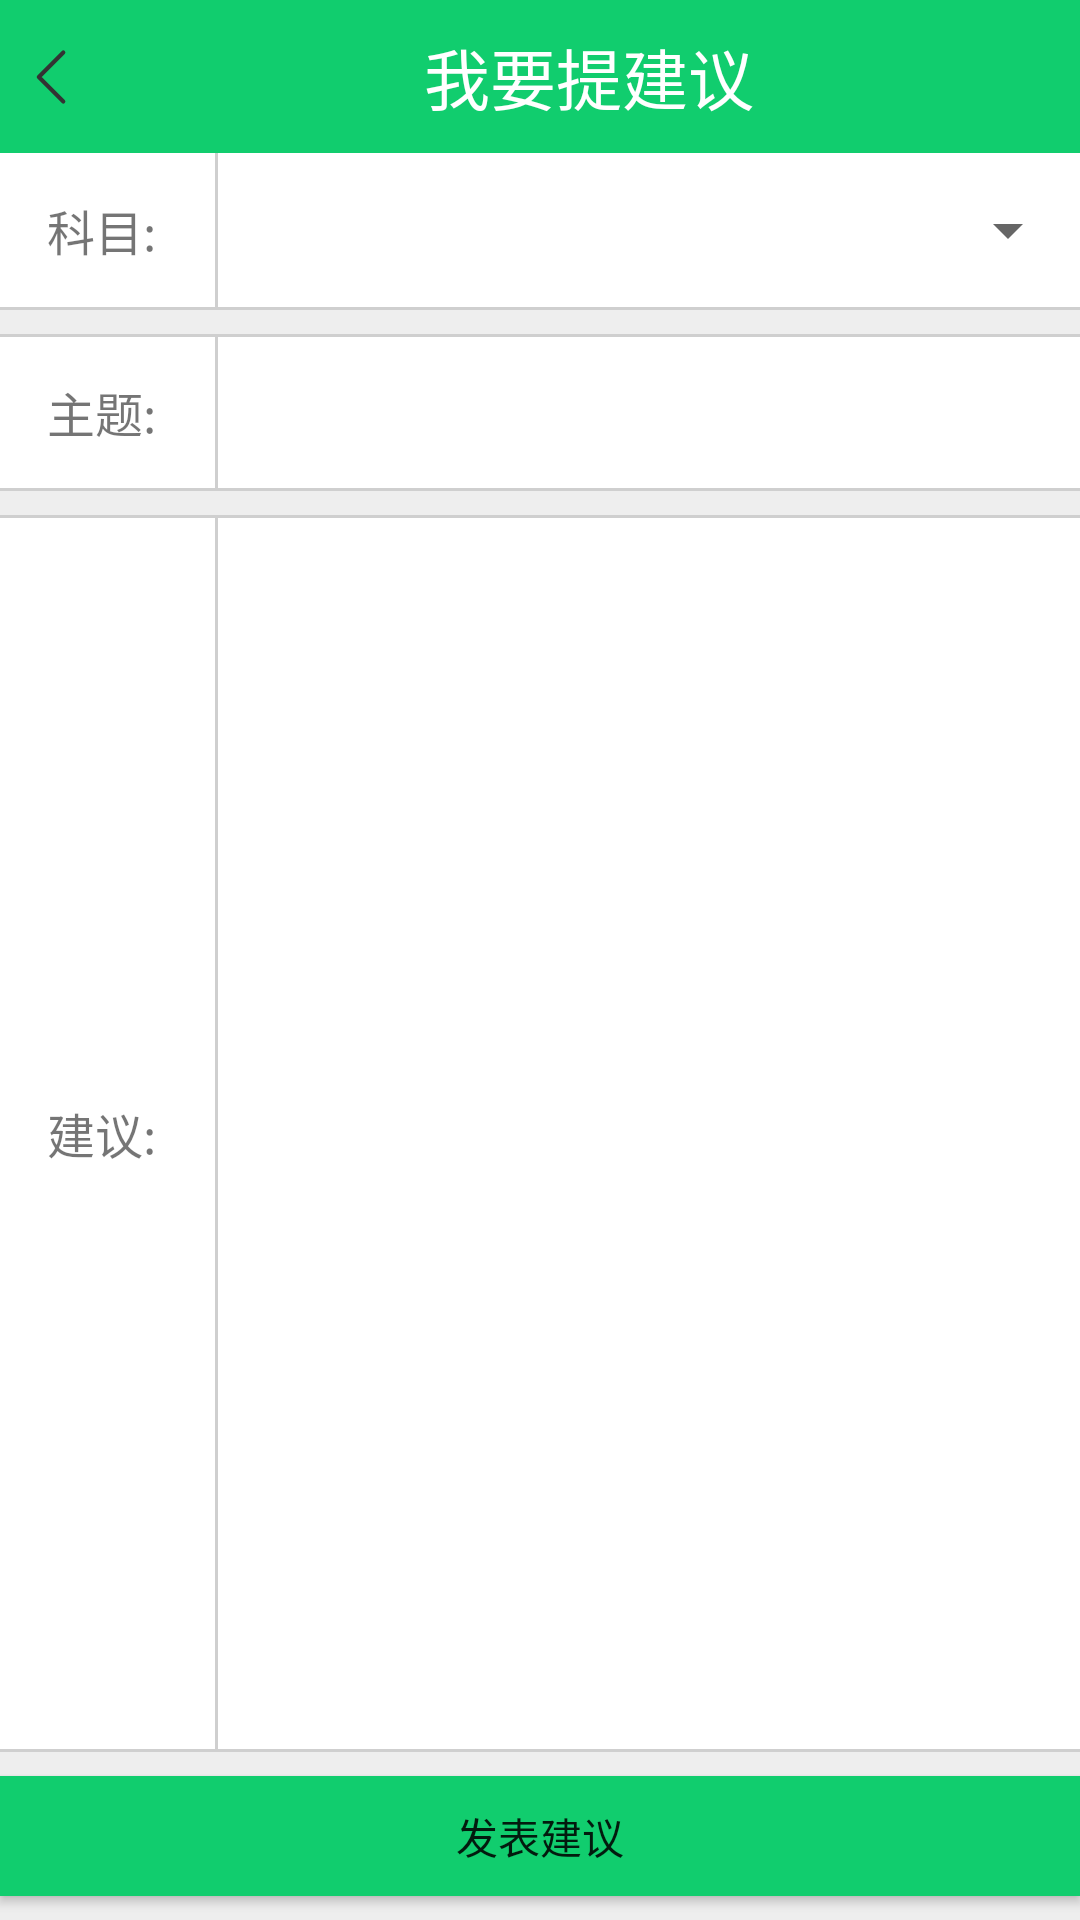

Point at icon controls on the screen. Image size 1080×1920, points as (x=x, y=y).
left: (x=51, y=77)
